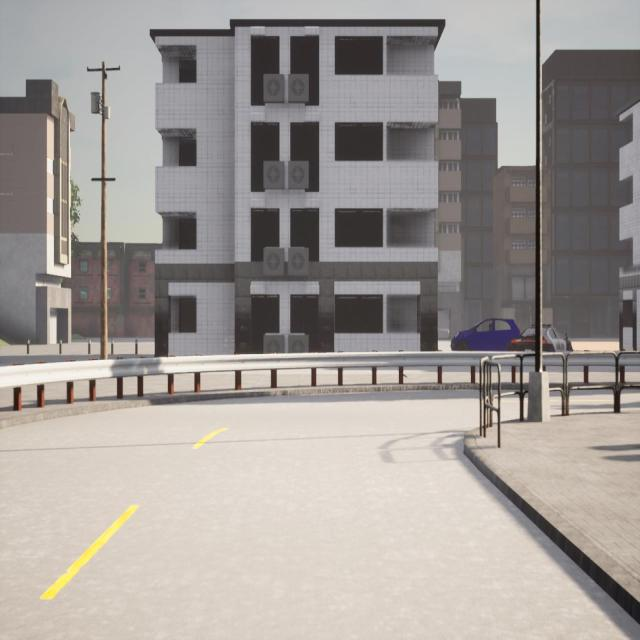Vehicle: (451, 317, 519, 351), (506, 323, 573, 351)
